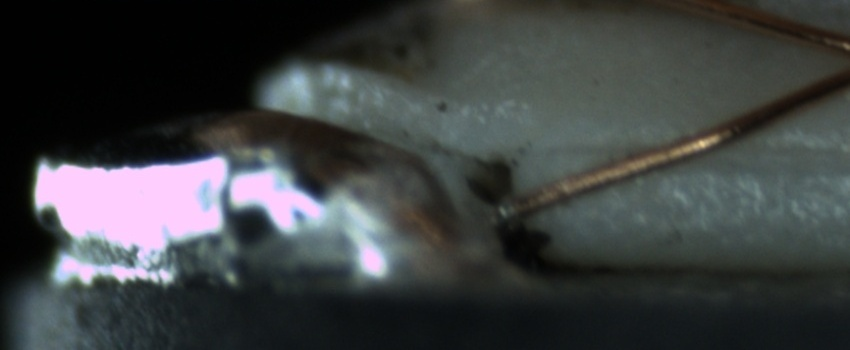DL: (544, 121, 845, 183)
